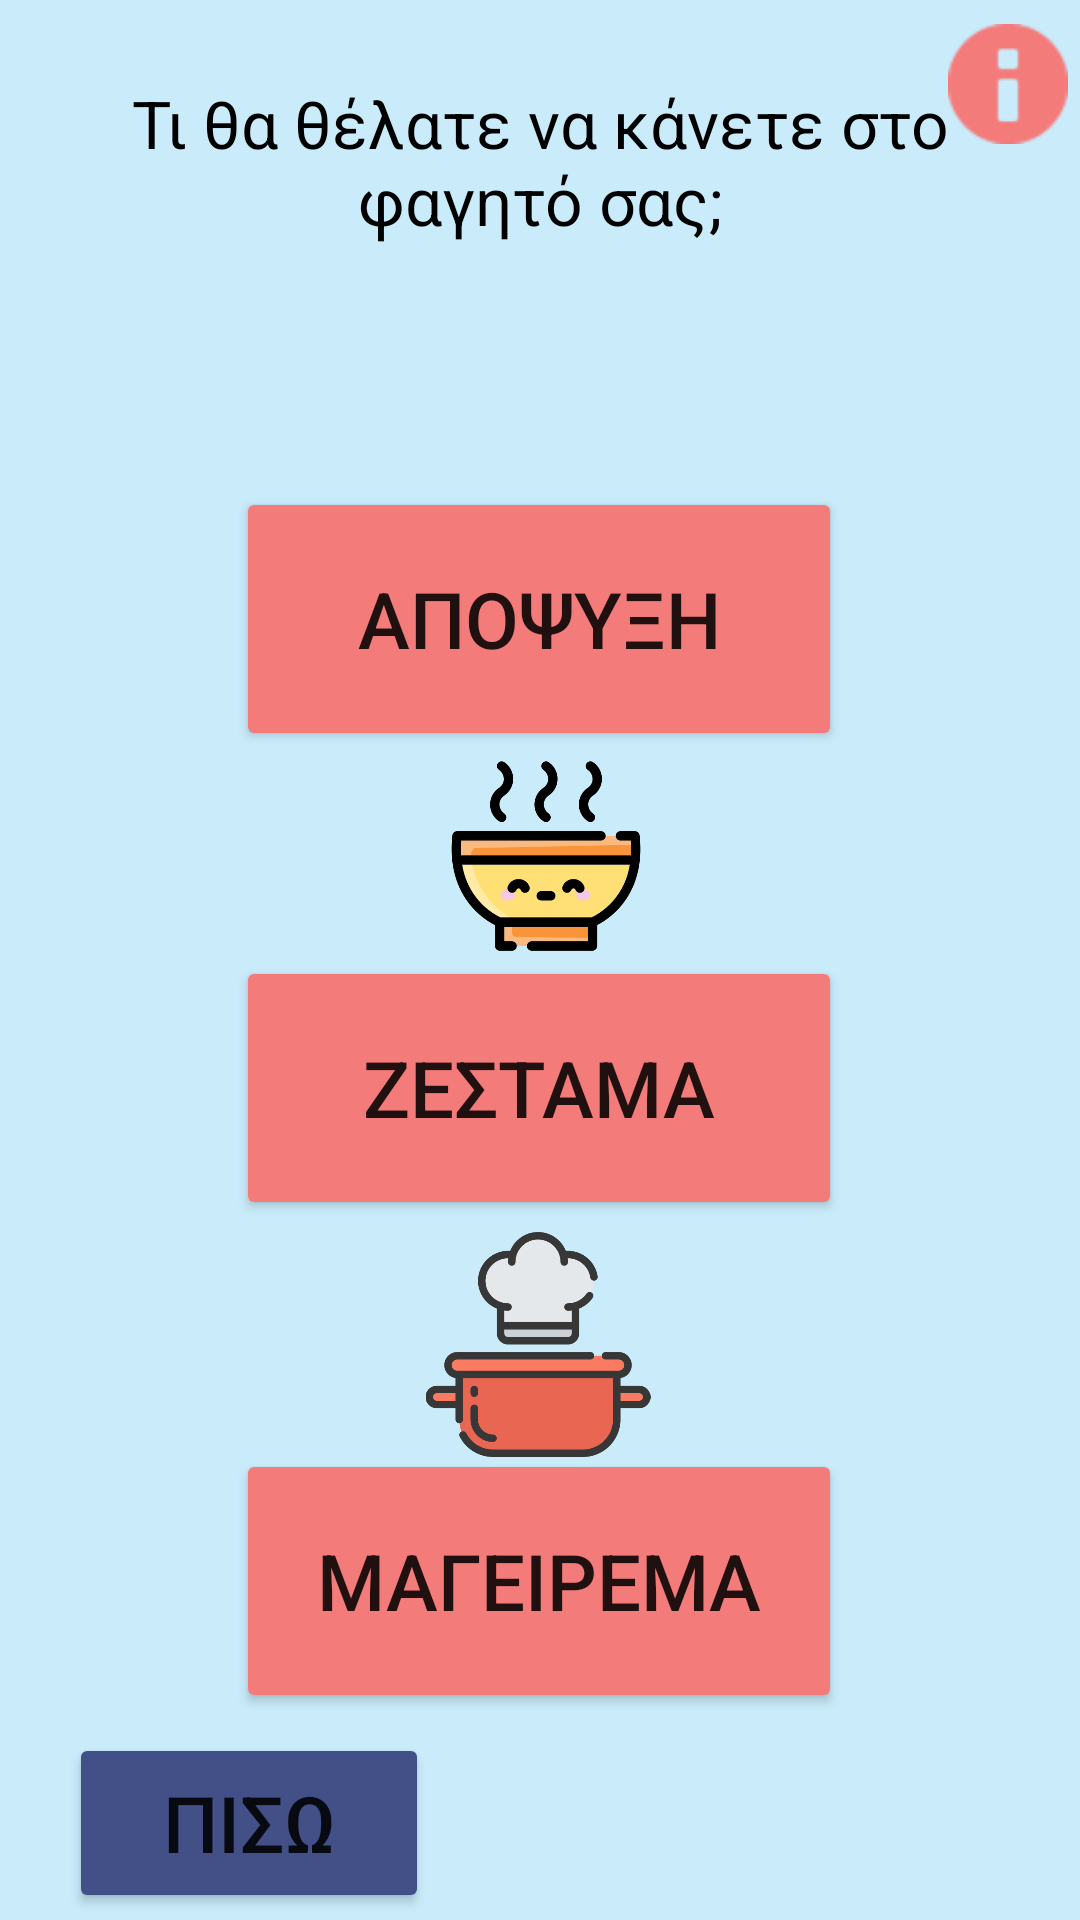

Icon click points for this 1080 × 1920 phone screenshot, format (x=x, y=y):
hot food: (x=546, y=856)
info: (x=1008, y=84)
pot: (x=538, y=1344)
